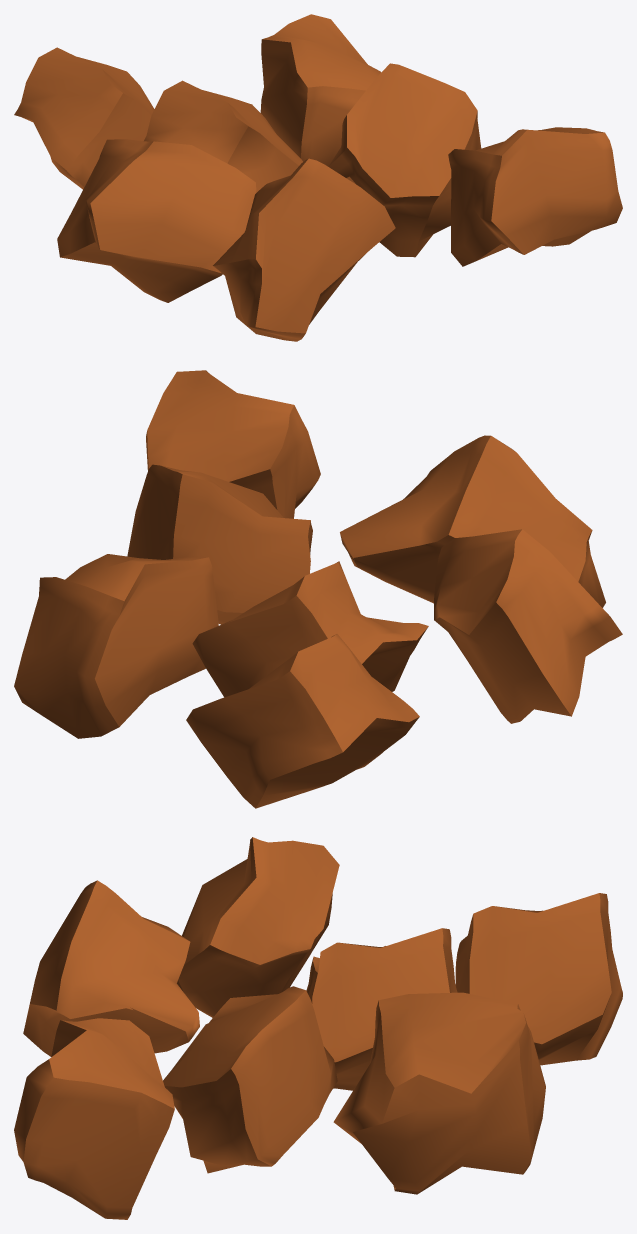
The model's file is ScatteredChilliTuna Installer (1).fbx.
The picture shows the model from 3 angles, top to bottom: view 1: azimuth 30°, elevation 25°; view 2: azimuth 150°, elevation 25°; view 3: azimuth 270°, elevation 25°; orthographic projection. The views are drawn at different scales.
Visible parts, largest first — view 1: ScatteredChilliTuna; view 2: ScatteredChilliTuna; view 3: ScatteredChilliTuna.
Part boxes in pixels (x1,y1,x2,y2): ScatteredChilliTuna: [14, 14, 622, 341]; ScatteredChilliTuna: [14, 370, 622, 808]; ScatteredChilliTuna: [14, 837, 622, 1219].
Size of the model in its own units: 2.51 by 0.96 by 2.48.
